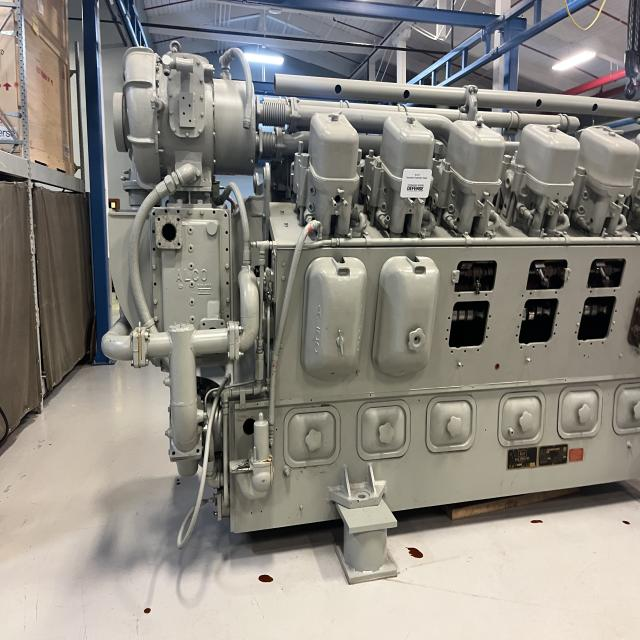Oil Leak: (247, 448, 274, 499), (132, 326, 148, 368), (407, 547, 423, 559), (258, 574, 273, 582), (144, 607, 151, 614), (531, 520, 543, 524), (623, 521, 630, 525)
